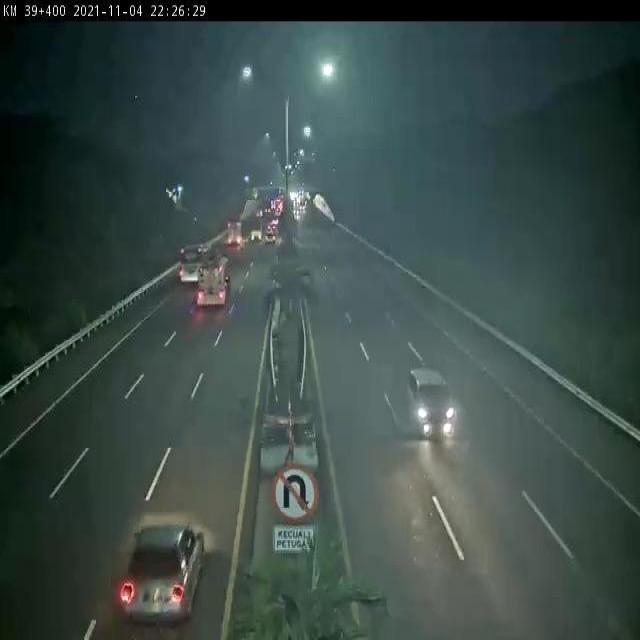bus-l-: (172, 238, 208, 294)
car: (95, 499, 206, 628), (396, 360, 469, 441)
truck-xl-: (198, 247, 232, 316)
